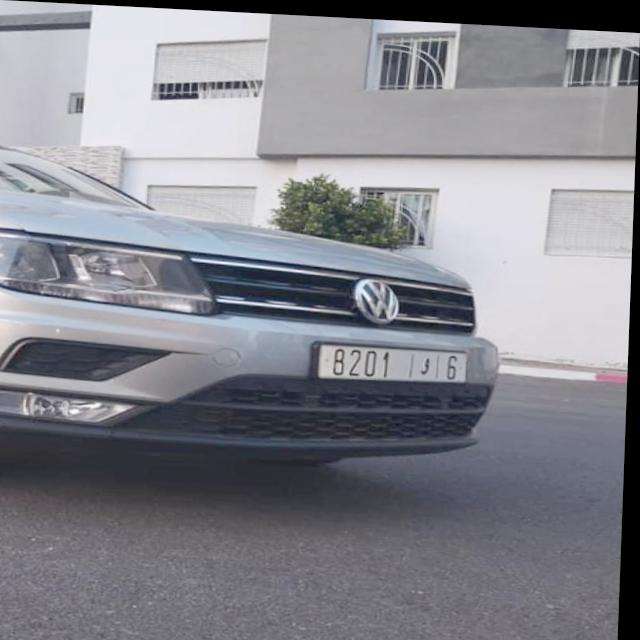License-Plate: (320, 341, 470, 377)
